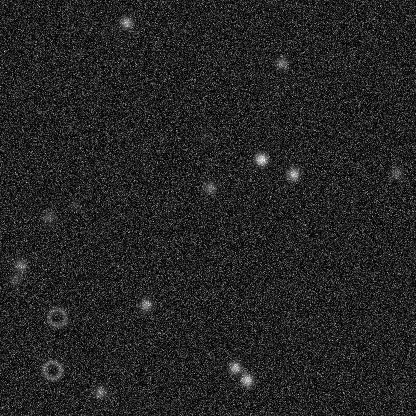Ring: (44, 305, 68, 329), (40, 357, 64, 381)
Spot: (67, 196, 83, 212), (12, 257, 28, 273), (285, 166, 301, 182), (92, 384, 108, 400), (7, 271, 23, 287), (201, 179, 217, 195), (227, 359, 243, 375), (40, 209, 56, 225), (137, 296, 153, 312), (118, 14, 134, 30), (238, 371, 254, 387), (252, 151, 268, 167), (273, 55, 289, 71), (387, 165, 403, 181)
